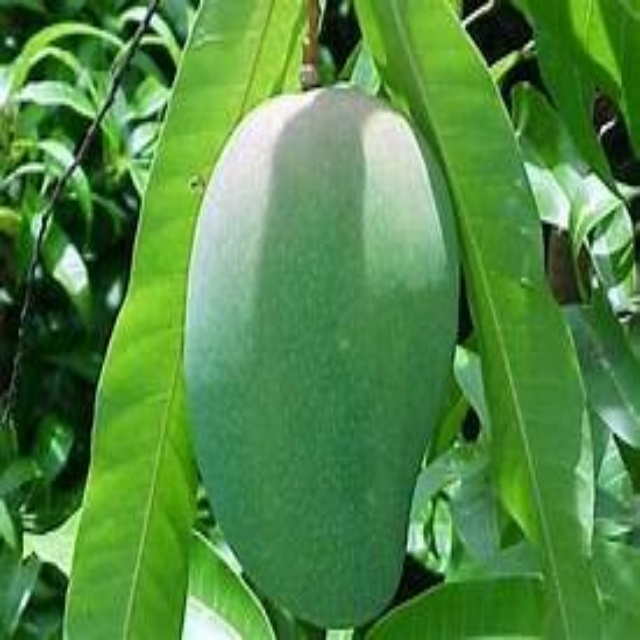mango: (188, 81, 447, 628)
